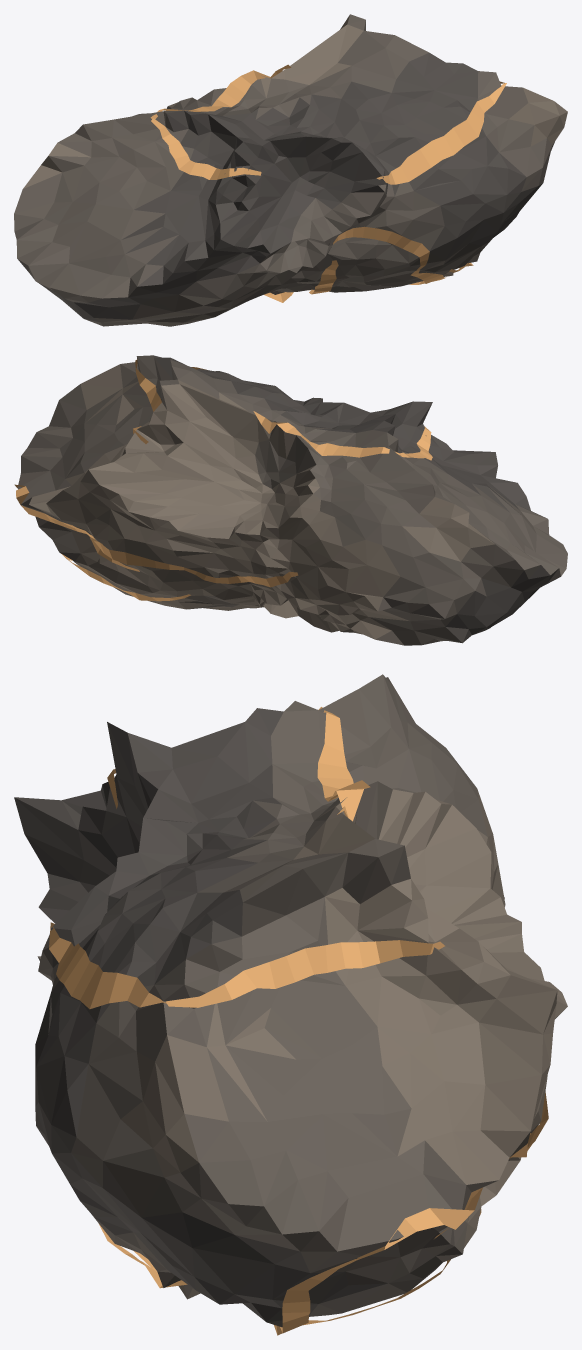
File: asteroid_c.glb
The picture shows the model from 3 angles, top to bottom: view 1: azimuth 30°, elevation 25°; view 2: azimuth 150°, elevation 25°; view 3: azimuth 270°, elevation 25°; orthographic projection. The views are drawn at different scales.
Parts seen in each view (by area): view 1: Asteroid; view 2: Asteroid; view 3: Asteroid.
Boxes of the visible parts, box(x1,y1,x2,y2) form: Asteroid: box(14, 14, 567, 326); Asteroid: box(14, 355, 567, 645); Asteroid: box(14, 674, 567, 1335).
Size of the model in its own units: 84.93 by 35.8 by 41.63.
